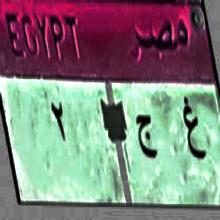2: (46, 98, 73, 146)
ghayn: (179, 89, 207, 166)
jeem: (134, 108, 160, 169)
